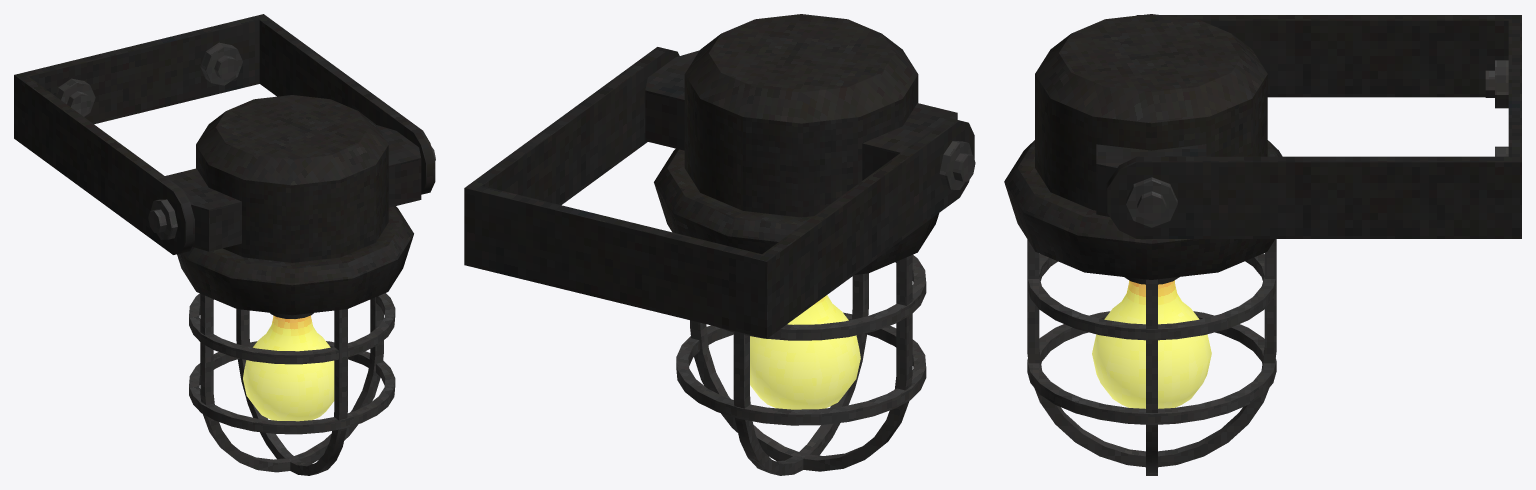
Rendered from lamp_mx_1_a_1_on.glb.
3 renders of one model, left to right at view 1: azimuth 30°, elevation 25°; view 2: azimuth 150°, elevation 25°; view 3: azimuth 270°, elevation 25°, orthographic. The views are drawn at different scales.
Visible parts, largest first — view 1: lamp_mx_1_a_1_on; view 2: lamp_mx_1_a_1_on; view 3: lamp_mx_1_a_1_on.
Part boxes in pixels (x1,y1,x2,y2): lamp_mx_1_a_1_on: (14,14,435,475); lamp_mx_1_a_1_on: (464,14,975,475); lamp_mx_1_a_1_on: (1004,14,1521,475).
Size of the model in its own units: 0.2245 by 0.2657 by 0.3023.
3 materials, 3 textured.
